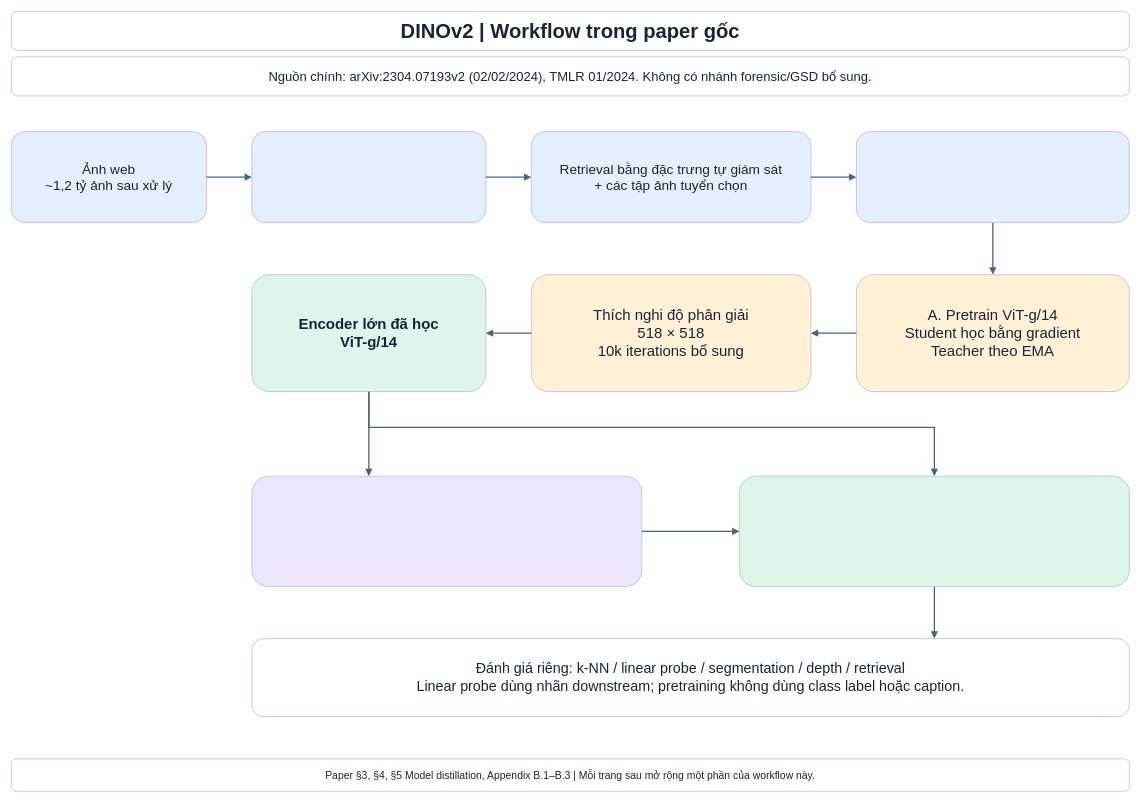
Some shapes in this 1141 by 803 pixel diagram are drawn without their labels. The shapes that lost their labels are listed below. From the top down, each one's box as (x1, y1, x2, y2) in pixels, then its label:
(251, 131, 486, 223): Loại ảnh gần trùng Loại trùng benchmark val/test
(856, 131, 1129, 223): LVD-142M 142.109.386 ảnh
(251, 475, 642, 587): B. Distill sang S / B / L Teacher lớn đóng băng EMA student nhỏ là model cuối
(739, 475, 1129, 587): C. Dùng encoder CLS embedding + patch embeddings Bỏ các head pretrain
